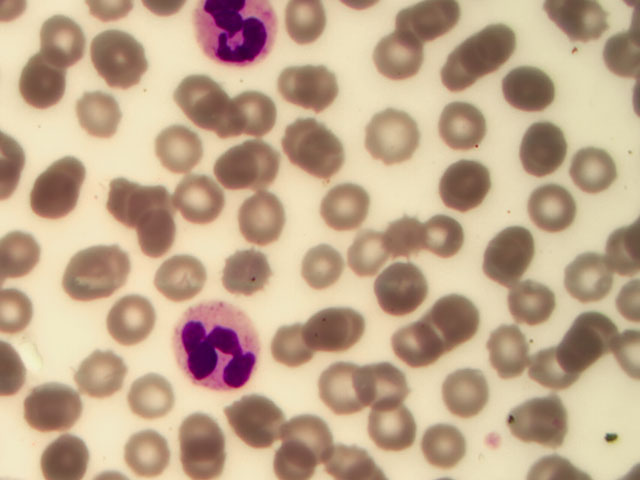Platelets: (487, 431, 504, 448)
RBC: (119, 429, 169, 480), (39, 429, 89, 480), (171, 429, 221, 480), (264, 429, 314, 480), (17, 58, 67, 108), (24, 175, 74, 225), (43, 145, 93, 195), (70, 89, 120, 139), (93, 32, 143, 82), (169, 66, 219, 116), (190, 89, 240, 139), (225, 90, 275, 140), (201, 145, 251, 195), (231, 138, 281, 188), (278, 114, 328, 164), (306, 139, 356, 189), (298, 60, 348, 110), (266, 53, 316, 103), (278, 1, 328, 51), (368, 31, 418, 81), (385, 4, 435, 54), (434, 49, 484, 99), (471, 21, 521, 71), (500, 66, 550, 116), (439, 101, 489, 151), (364, 110, 414, 160), (437, 156, 487, 206), (515, 125, 565, 175), (562, 146, 612, 196), (530, 179, 580, 229), (482, 226, 532, 276), (421, 213, 471, 263), (380, 212, 430, 262), (341, 229, 391, 279), (298, 241, 348, 291), (319, 183, 369, 233), (236, 193, 286, 243), (217, 253, 267, 303), (145, 254, 195, 304), (138, 213, 188, 263), (128, 172, 178, 222), (101, 171, 151, 221), (174, 173, 224, 223), (67, 247, 117, 297), (104, 295, 154, 345), (75, 349, 125, 399), (31, 378, 81, 428), (125, 369, 175, 419), (176, 405, 226, 455), (224, 397, 274, 447), (282, 408, 332, 458), (319, 364, 369, 414), (347, 359, 397, 409), (367, 401, 417, 451), (411, 419, 461, 469), (310, 309, 360, 359), (270, 321, 320, 371), (387, 322, 437, 372), (426, 299, 476, 349), (374, 265, 424, 315), (480, 321, 530, 371), (445, 364, 495, 414), (515, 396, 565, 446), (510, 276, 560, 326), (558, 256, 608, 306), (557, 1, 607, 51), (576, 304, 626, 354), (529, 339, 579, 389), (418, 1, 468, 50), (36, 19, 88, 65)
WBC: (169, 301, 261, 390), (194, 2, 278, 69)
